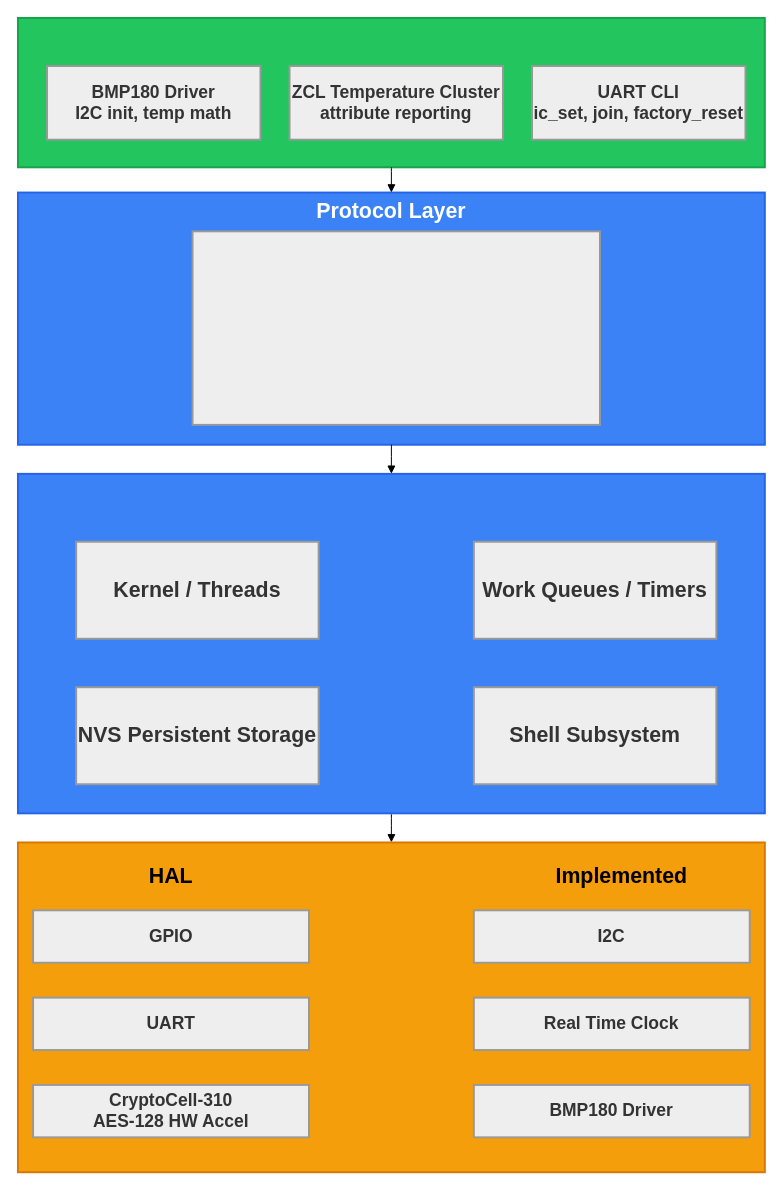
The diagram is 782 pixels wide and 1189 high, and some of its shapes have lost their labels. Here are the shapes that lost their labels. From the top down, the box of each, then its label:
(16, 16, 765, 168): Application Layer
(191, 230, 600, 425): ZBOSS Zigbee 3.0 BDB, NWK, APS, ZCL
(16, 472, 765, 814): Zephyr RTOS v3.7.x
(16, 841, 765, 1173): nRF52840
